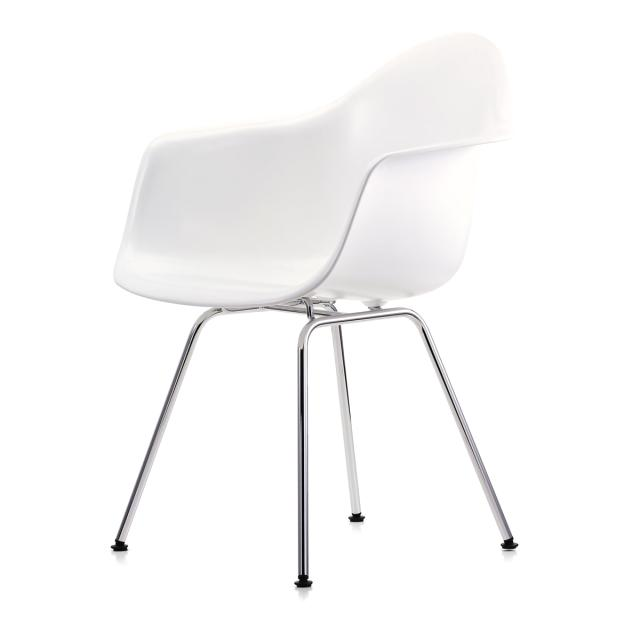Chair: (108, 28, 524, 590)
